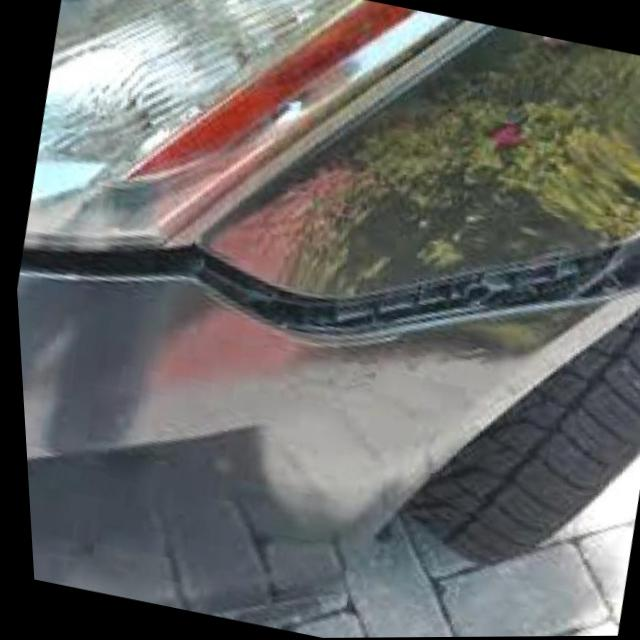Car-Damage: (7, 72, 640, 418)
